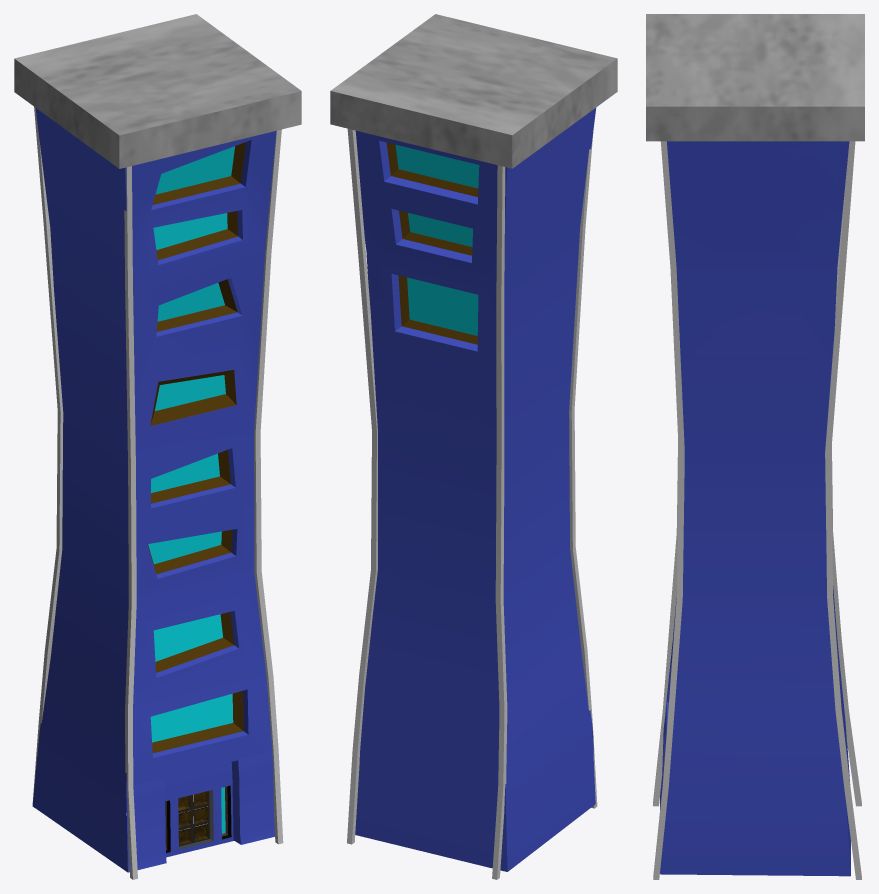
The model's file is PredioAltoFino-AzulJanelaSul.fbx.
The picture shows the model from 3 angles, left to right: view 1: azimuth 30°, elevation 25°; view 2: azimuth 150°, elevation 25°; view 3: azimuth 270°, elevation 25°; orthographic projection. The views are drawn at different scales.
Parts seen in each view (by area): view 1: PredioAltoFinoLOD0; view 2: PredioAltoFinoLOD0; view 3: PredioAltoFinoLOD0.
Boxes of the visible parts, x1,y1,x2,y2 form: PredioAltoFinoLOD0: [14, 14, 301, 879]; PredioAltoFinoLOD0: [330, 14, 617, 879]; PredioAltoFinoLOD0: [646, 14, 864, 879].
Bounding box in the file's own units: 635 × 2498 × 635.
